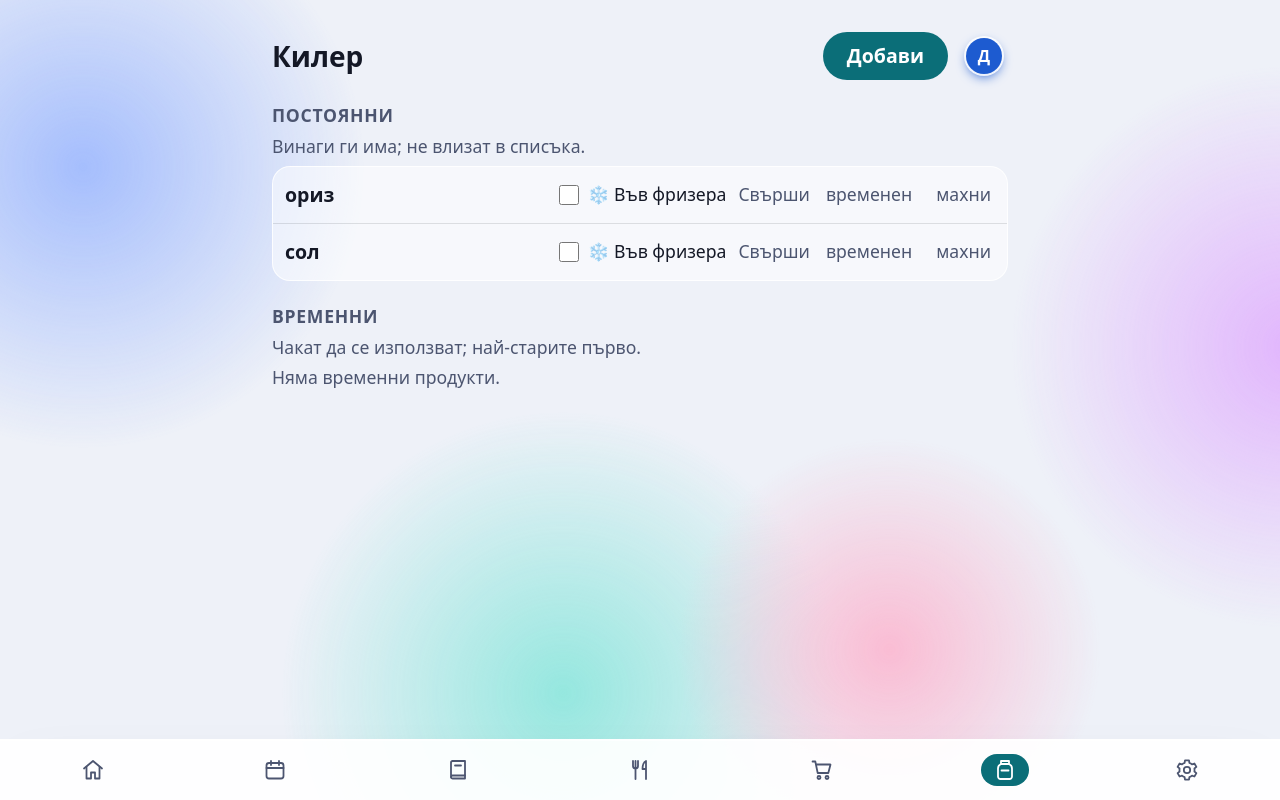
Scenario: PantryScreen › „Върни“ (#129 D-05) › „махни“ на постоянен продукт: същият toast; ново действие праща изчакващото изтриване веднага
Click the button with aria-label "Махни: ориз" at {"x": 964, "y": 195}, box [932,171,995,219]
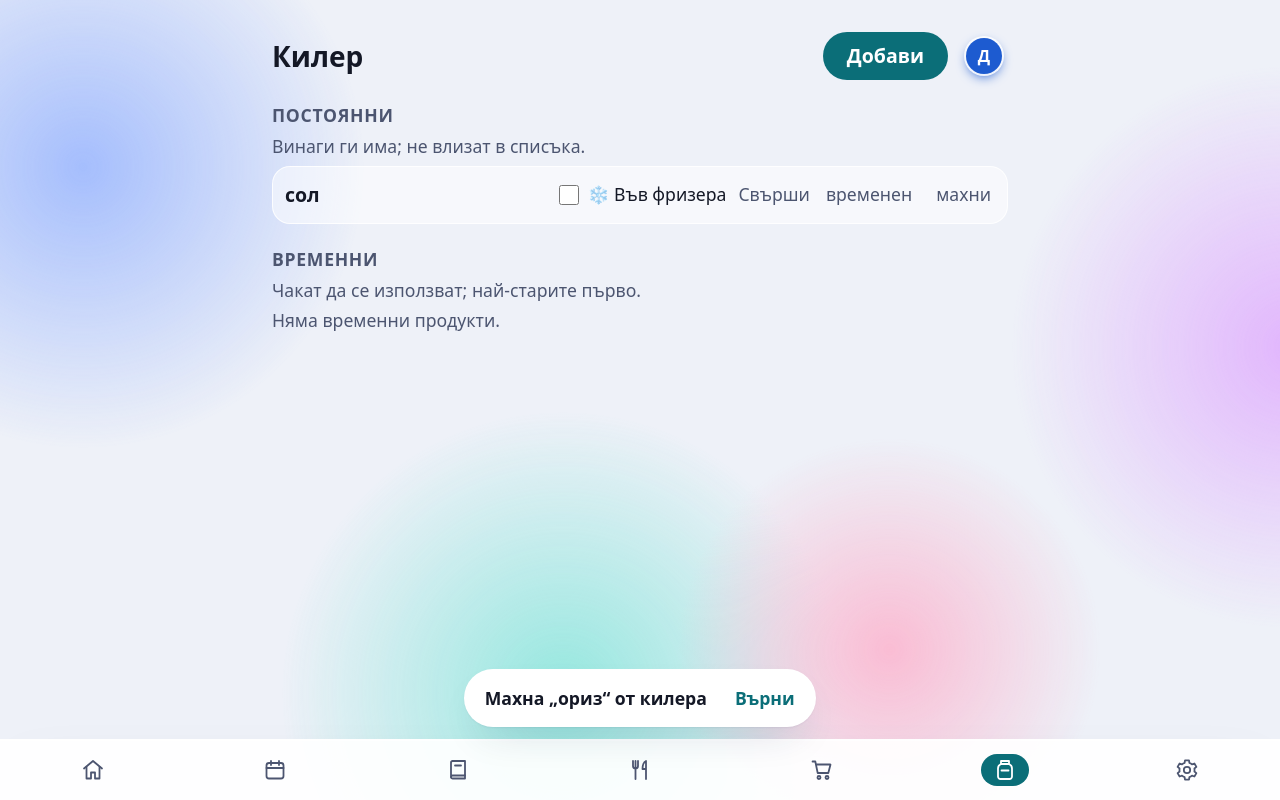
expect the text "Махна „ориз“ от килера" is shown: met, box [485,687,707,710]
Click the button with aria-label "Махни: сол" at {"x": 964, "y": 195}, box [932,171,995,219]
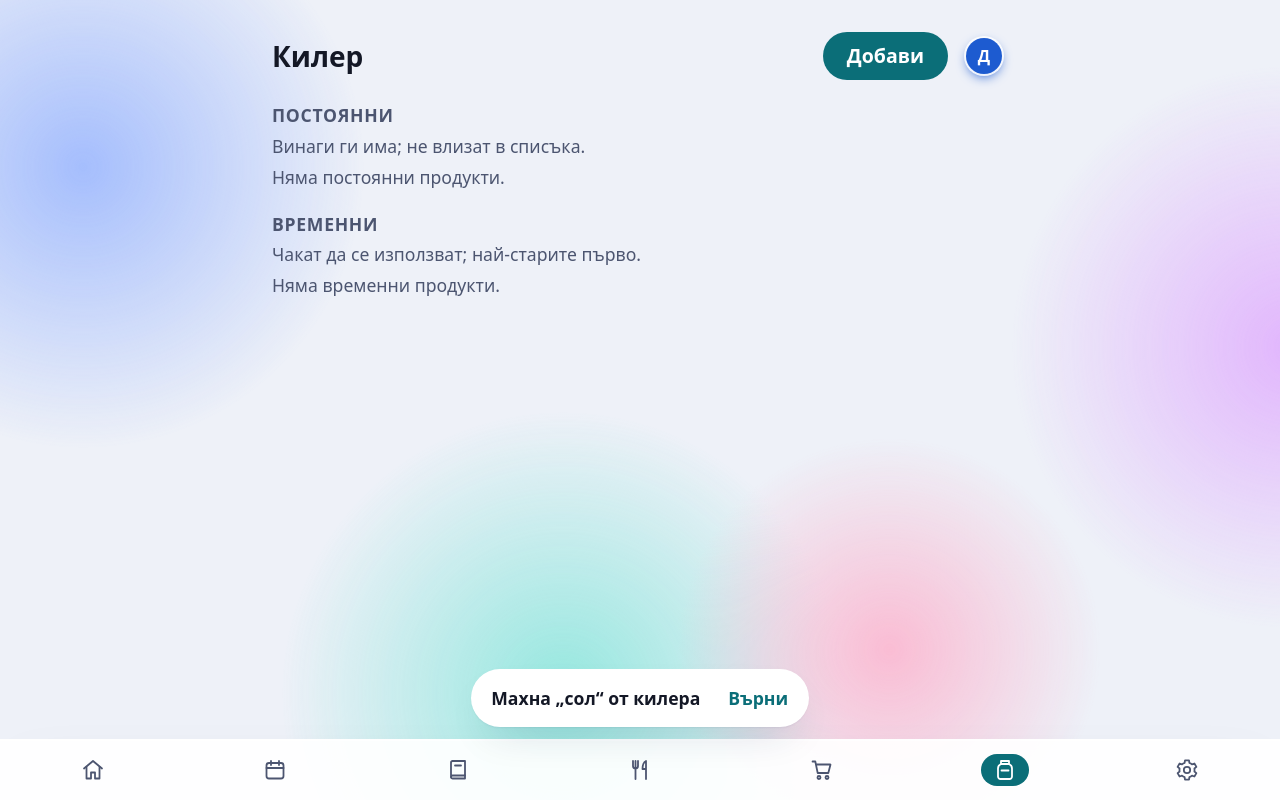
expect the text "Махна „сол“ от килера" is shown: met, box [491,687,700,710]
expect the text "Махна „ориз“ от килера" is gone: met
